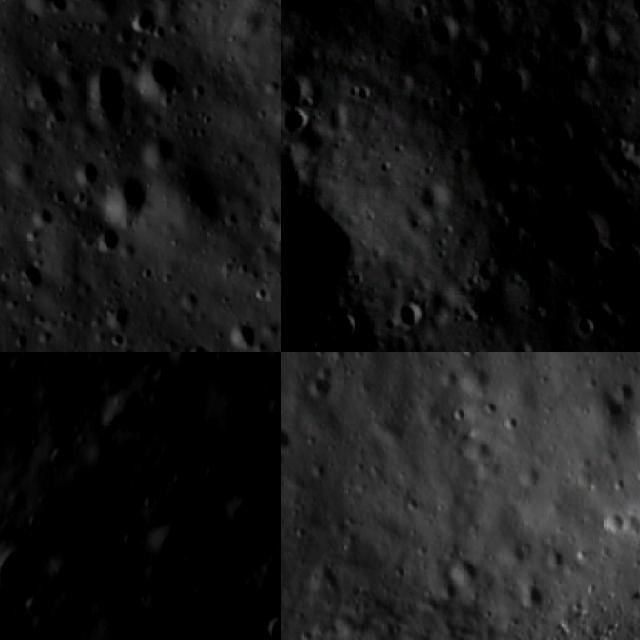crater: (542, 112, 636, 219), (539, 204, 610, 290), (0, 540, 36, 615), (86, 68, 127, 132), (108, 168, 153, 218), (322, 304, 368, 350), (422, 8, 468, 54), (438, 548, 483, 594), (548, 8, 594, 52), (152, 526, 195, 570), (388, 293, 433, 335), (20, 68, 59, 115), (498, 63, 534, 110), (443, 50, 484, 89), (146, 57, 184, 98), (224, 495, 263, 533), (281, 103, 317, 143), (610, 234, 640, 281), (155, 352, 209, 378), (307, 361, 338, 405), (519, 574, 546, 612), (86, 226, 122, 254), (600, 507, 630, 536), (69, 154, 96, 186), (113, 528, 139, 558), (614, 374, 638, 406), (327, 0, 366, 19), (43, 446, 72, 468), (257, 616, 281, 640), (291, 516, 313, 542), (502, 411, 523, 438), (551, 544, 573, 568), (281, 423, 295, 460), (268, 397, 281, 433), (390, 559, 410, 581), (483, 392, 501, 414), (406, 491, 422, 513), (453, 401, 466, 425), (456, 352, 485, 361)
